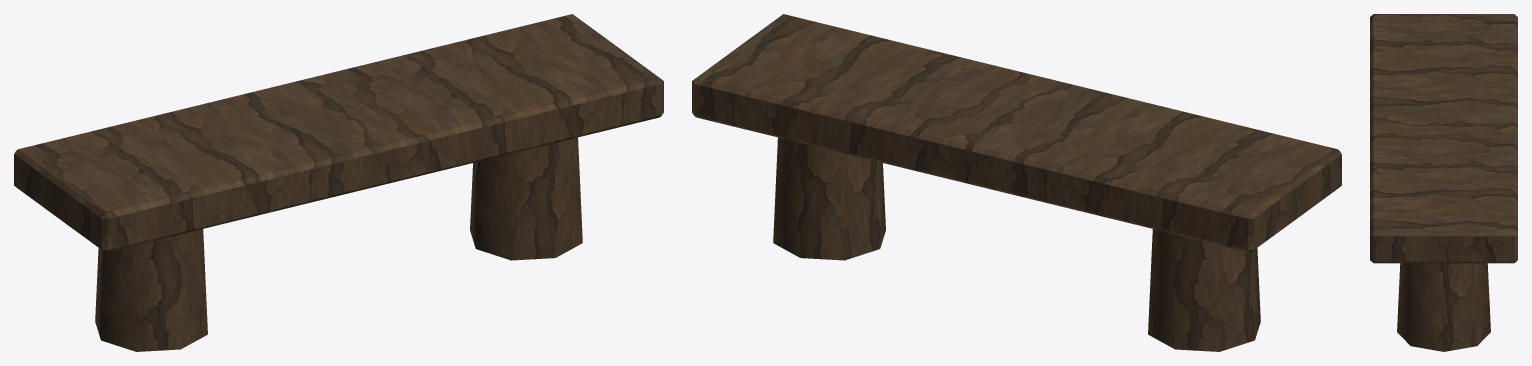
The model's file is source_5.glb.
3 renders of one model, left to right at view 1: azimuth 30°, elevation 25°; view 2: azimuth 150°, elevation 25°; view 3: azimuth 270°, elevation 25°, orthographic. The views are drawn at different scales.
Visible parts, largest first — view 1: woodland-log-bench · evaluated preview mesh; view 2: woodland-log-bench · evaluated preview mesh; view 3: woodland-log-bench · evaluated preview mesh.
Boxes of the visible parts, x1,y1,x2,y2 form: woodland-log-bench · evaluated preview mesh: (14, 14, 663, 351); woodland-log-bench · evaluated preview mesh: (692, 14, 1341, 351); woodland-log-bench · evaluated preview mesh: (1370, 14, 1517, 351).
Bounding box in the file's own units: 3 × 0.86 × 0.85.
2 materials, 1 textured.
